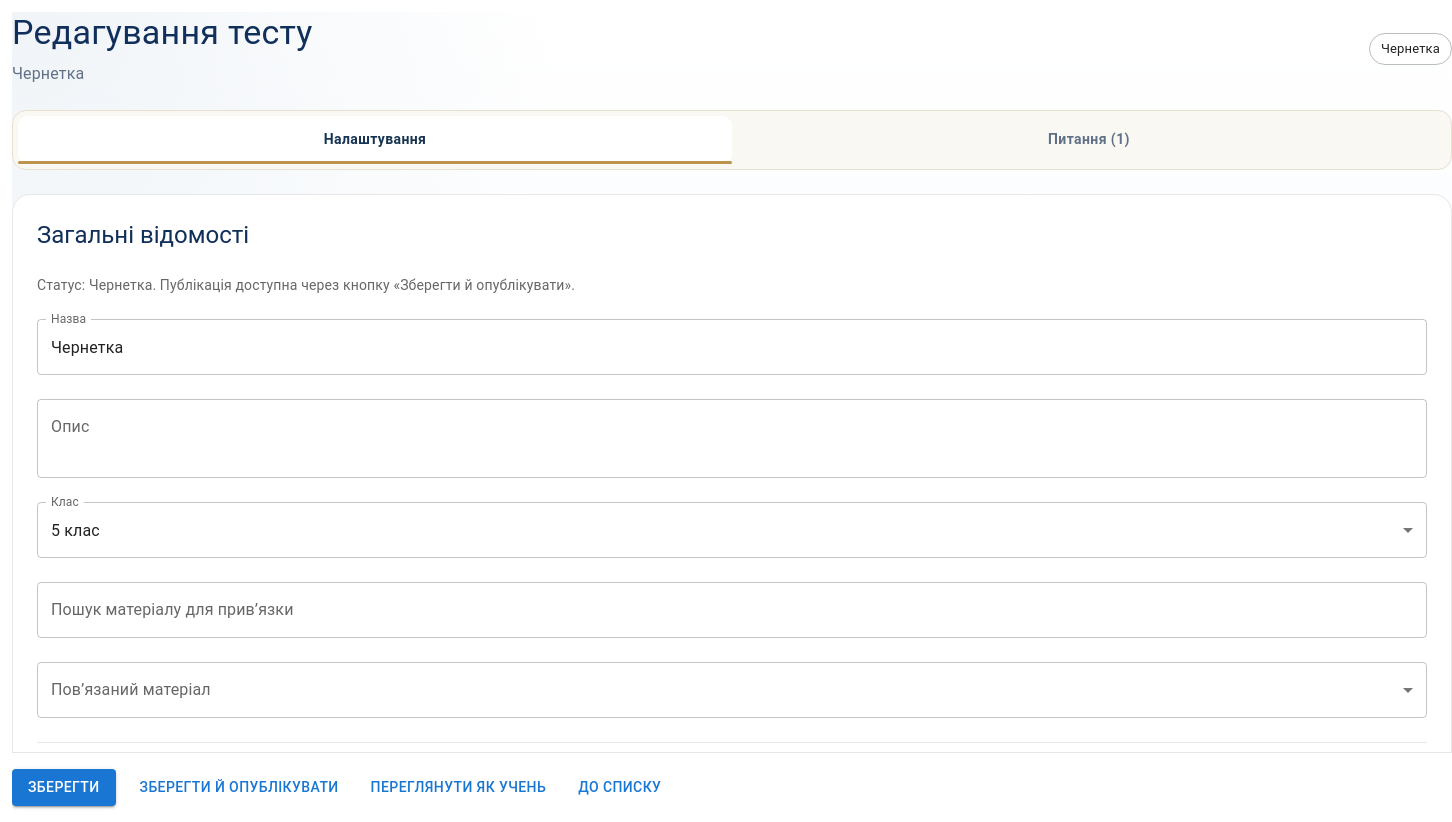
Test: opens the question tab and identifies a missing correct answer
Expected: the field showing "Чернетка" is shown, [37,319,1427,375]
Click the button "Зберегти". click: (64, 788)
box: [12,770,116,806]
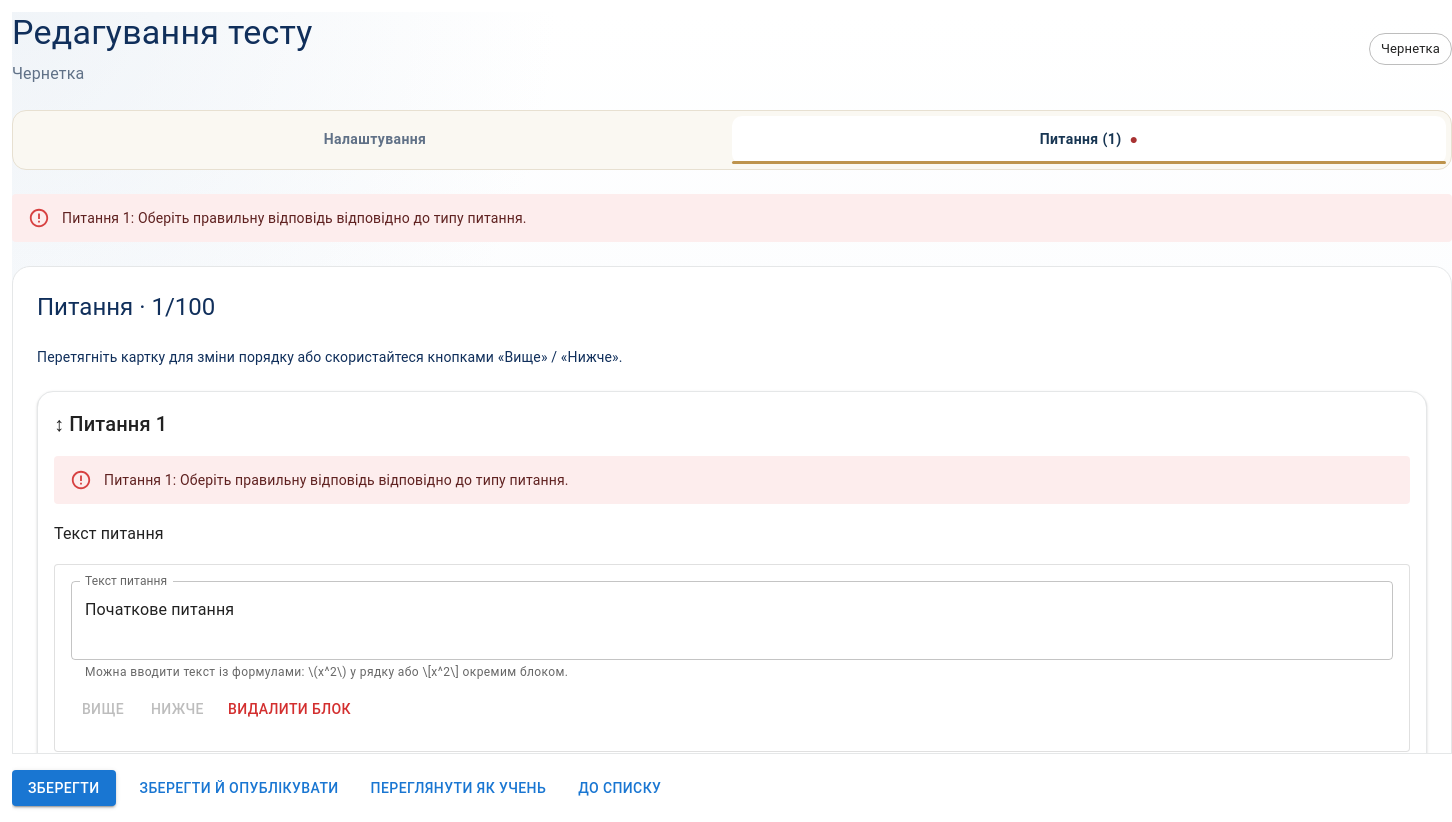
Expected: the 1st text "Питання 1: Оберіть правильну відповідь" is shown, [62,210,527,226]
Expected: the tab "Питання (1) ●" is shown, [732,116,1446,164]
